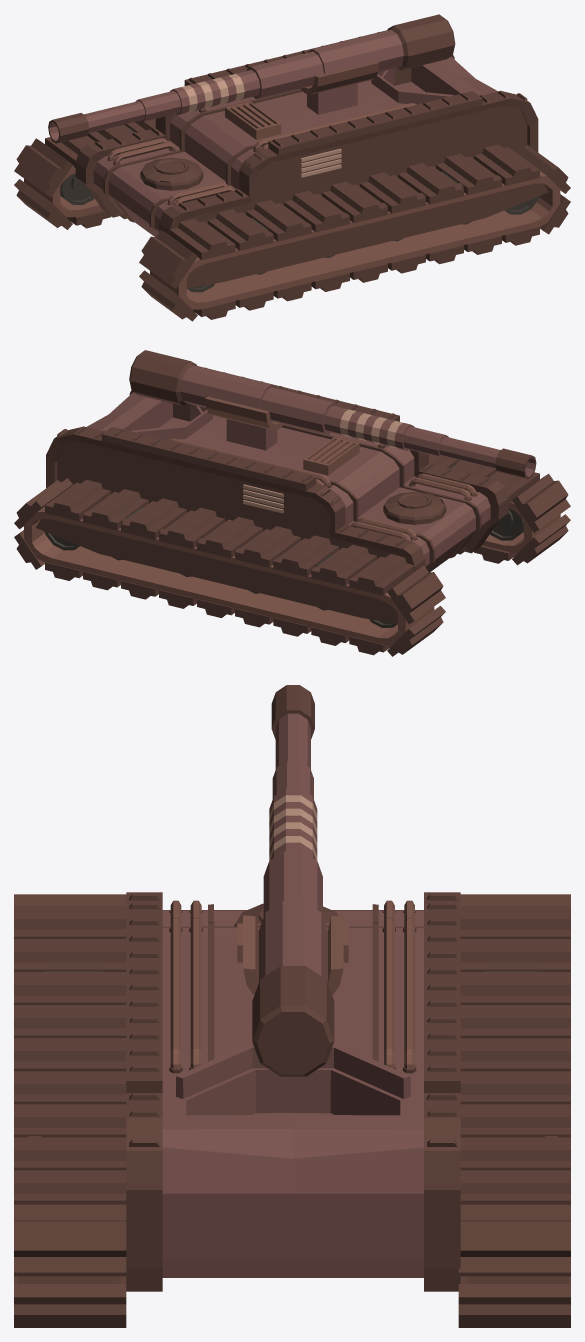
Rendered from camp-vehicles-vehicle-tank-4.glb.
The picture shows the model from 3 angles, top to bottom: view 1: azimuth 30°, elevation 25°; view 2: azimuth 150°, elevation 25°; view 3: azimuth 270°, elevation 25°; orthographic projection. The views are drawn at different scales.
Visible parts, largest first — view 1: camp-vehicles-vehicle-tank-4; view 2: camp-vehicles-vehicle-tank-4; view 3: camp-vehicles-vehicle-tank-4.
Boxes of the visible parts, x1,y1,x2,y2 form: camp-vehicles-vehicle-tank-4: (14,14,570,321); camp-vehicles-vehicle-tank-4: (14,350,570,656); camp-vehicles-vehicle-tank-4: (14,685,570,1327).
Bounding box in the file's own units: 7 × 3.02 × 4.33.
